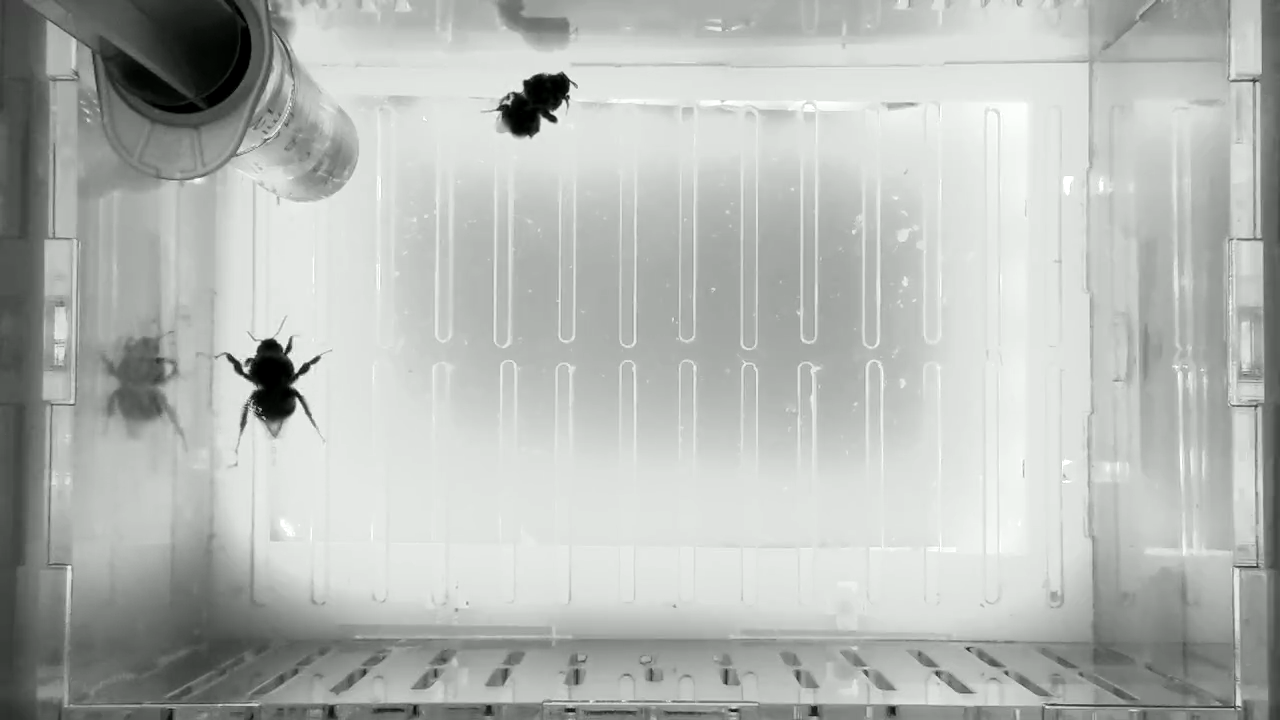bee: (210, 313, 340, 474), (478, 69, 582, 145)
feeder: (228, 51, 363, 207)
